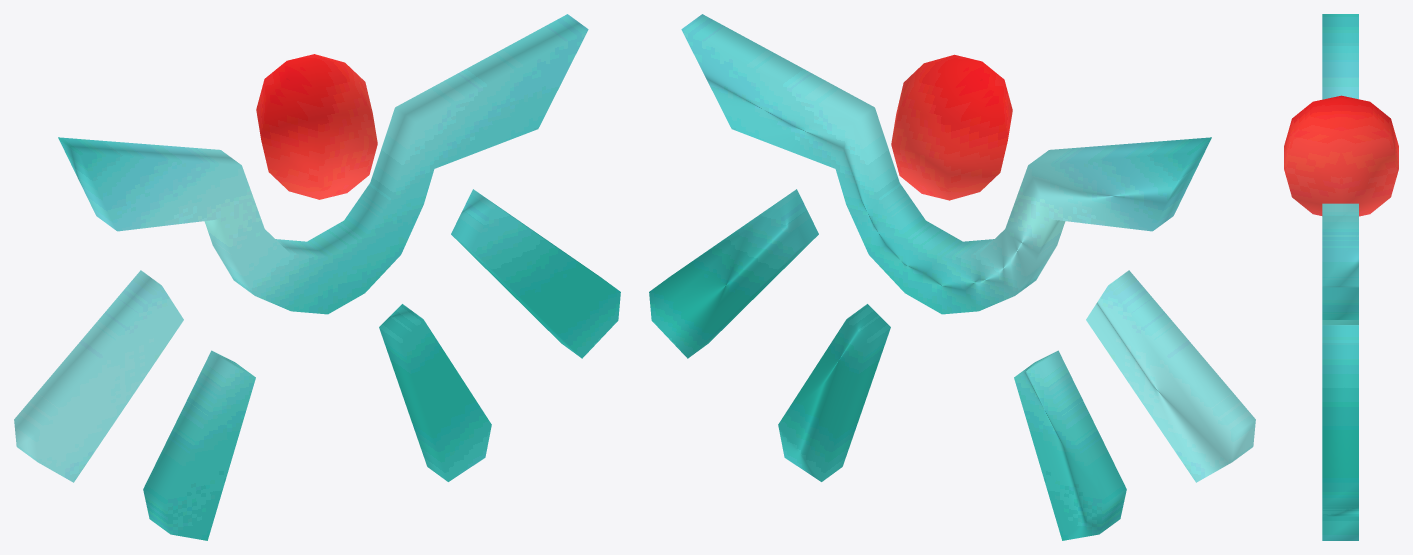
The model's file is ps2_save-icons_boukenjidaikatsugeki-goemon.glb.
3 views of the same model, side by side, from view 1: azimuth 30°, elevation 25°; view 2: azimuth 150°, elevation 25°; view 3: azimuth 270°, elevation 25° (orthographic). The views are drawn at different scales.
Parts seen in each view (by area): view 1: goemon.ico; view 2: goemon.ico; view 3: goemon.ico.
Boxes of the visible parts, x1,y1,x2,y2 form: goemon.ico: (14,14,620,540); goemon.ico: (649,14,1255,540); goemon.ico: (1284,14,1398,540).
Bounding box in the file's own units: 4.54 × 3.28 × 0.8799.
1 material, 1 textured.
